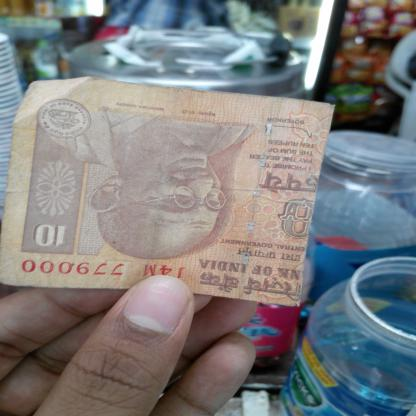Old10Front: (0, 75, 335, 309)
